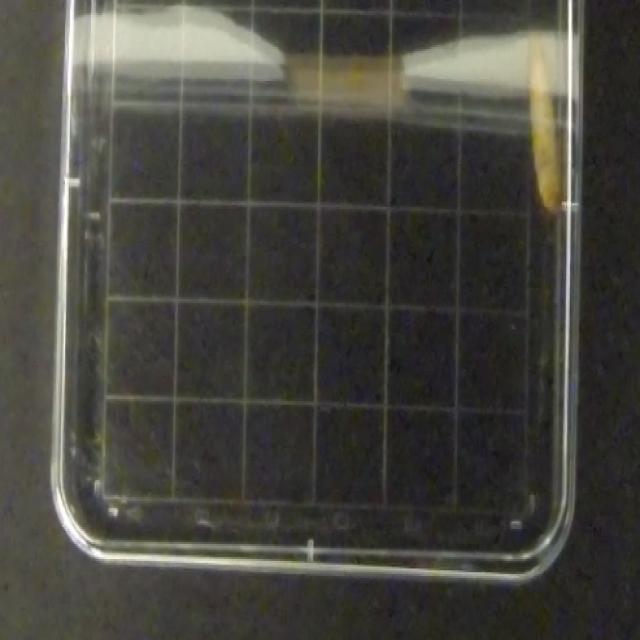larva: (531, 42, 566, 217)
